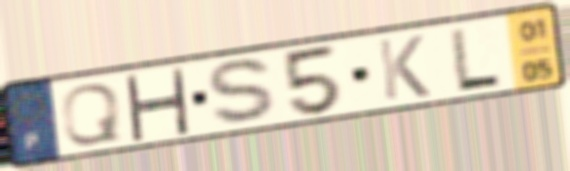5: (280, 40, 347, 119)
H: (120, 66, 192, 142)
K: (374, 32, 434, 103)
L: (447, 24, 505, 92)
Q: (58, 81, 125, 147)
S: (203, 57, 284, 128)
